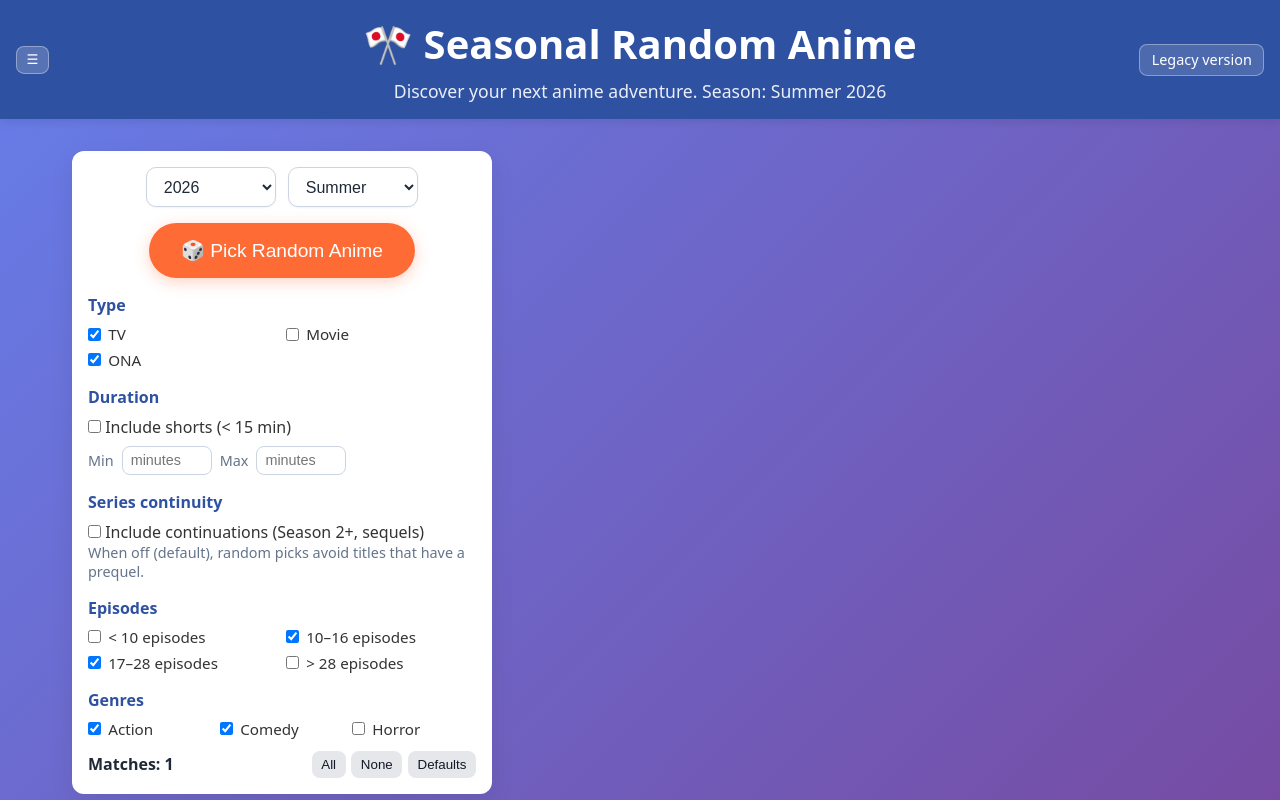
it: App (functional) › updates the match count when filters change
// Unchecking the TV type removes the only default match.
Click the checkbox labelled "TV". click: (94, 334)
box: [88,328,101,341]
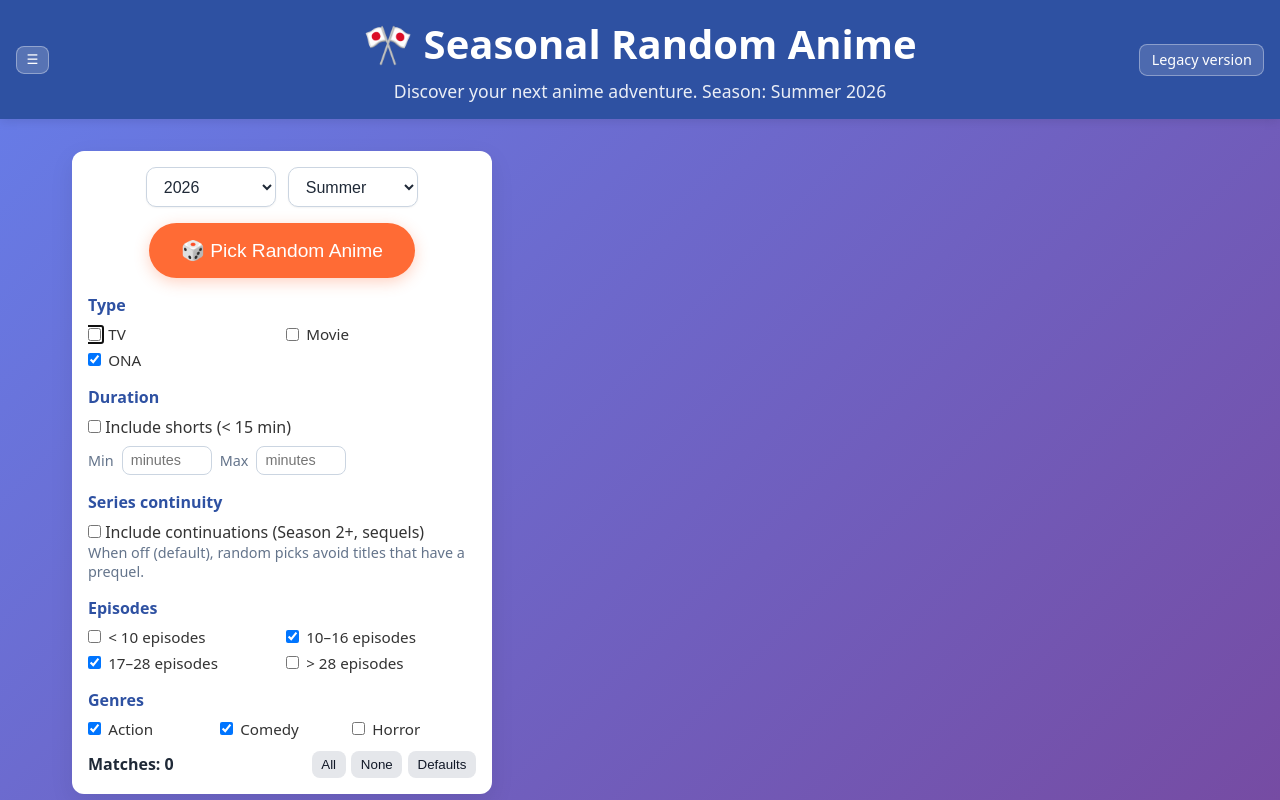
Now the text with test id "match-count" reads "0", box [165,754,174,776]
